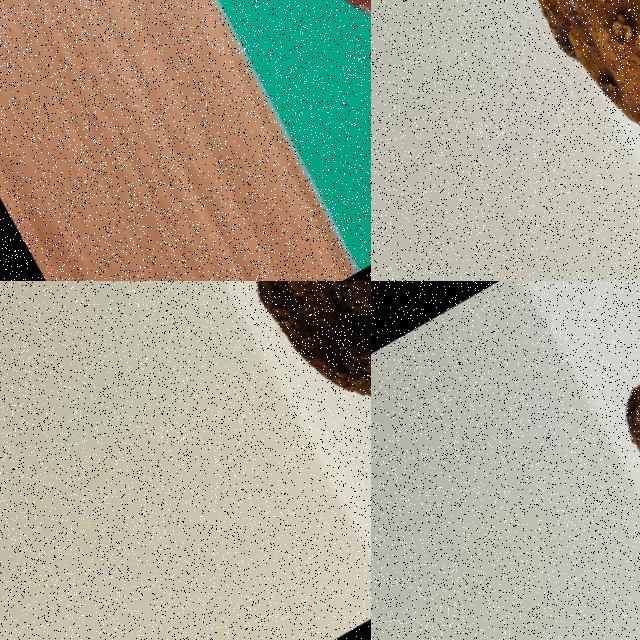Fine_cocoabeans: (458, 281, 639, 639), (419, 0, 639, 207), (197, 0, 370, 186)
Flat_cocoabeans: (135, 281, 370, 518)
